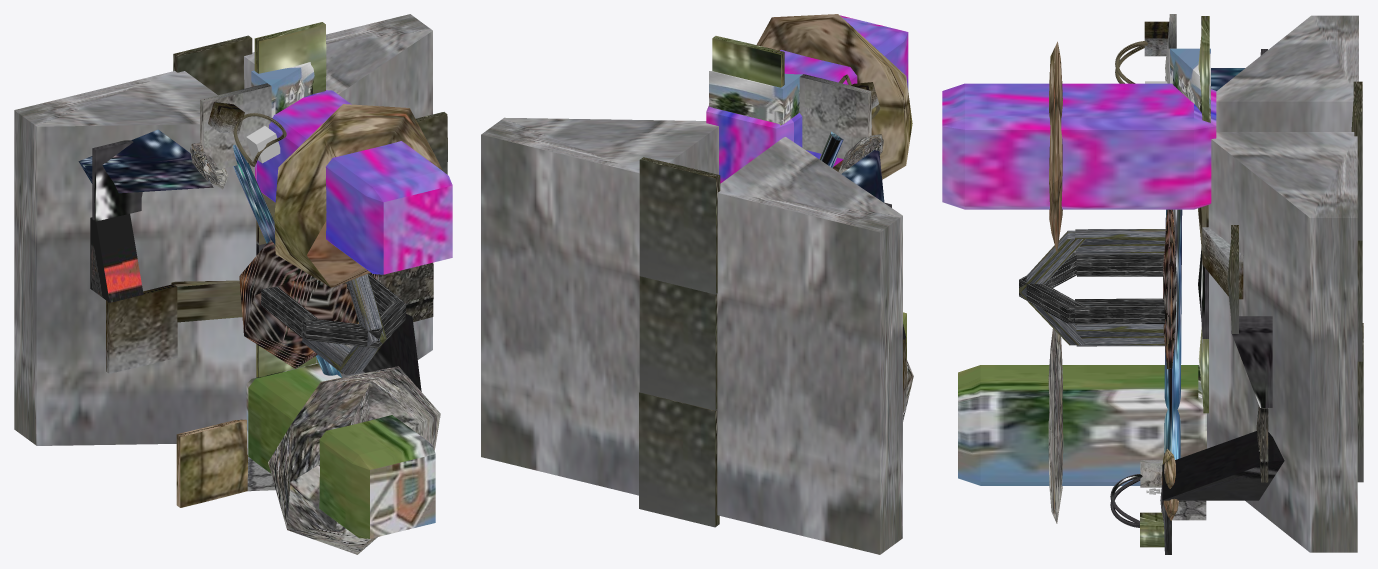
The model's file is asizing6.glb.
3 views of the same model, side by side, from view 1: azimuth 30°, elevation 25°; view 2: azimuth 150°, elevation 25°; view 3: azimuth 270°, elevation 25° (orthographic). The views are drawn at different scales.
Parts seen in each view (by area): view 1: Cube.011, Cube.012, Cube.005, Sphere.001, Sphere.002, Cube.010, Sphere, Cube.004, Cube.026, Cube.008, Cube.022, Cube.028 (+17 smaller); view 2: Cube.011, Cube.010, Cube.031, Cube.029, Cube.030, Sphere.002, Cube.012, Cube.020, Cube.017, Cube.006, Cube.008, Sphere.003; view 3: Cube.010, Cube.012, Cube.005, Cube.011, Cube.021, Cube.022, Cube.009, Cube.007, Cylinder, Sphere.001, Sphere.002, Sphere (+16 smaller).
Boxes of the visible parts, left/top/right/bottom form: Cube.011: left=14, top=71, right=256, bottom=445; Cube.012: left=255, top=90, right=452, bottom=274; Cube.005: left=246, top=363, right=435, bottom=538; Sphere.001: left=268, top=366, right=440, bottom=554; Sphere.002: left=274, top=104, right=442, bottom=287; Cube.010: left=244, top=14, right=432, bottom=377; Sphere: left=239, top=240, right=378, bottom=368; Cube.004: left=176, top=419, right=248, bottom=507; Cube.026: left=106, top=284, right=177, bottom=373; Cube.008: left=78, top=129, right=213, bottom=193; Cube.022: left=261, top=273, right=406, bottom=348; Cube.028: left=90, top=214, right=143, bottom=302; Cube.011: left=717, top=137, right=902, bottom=554; Cube.010: left=481, top=117, right=718, bottom=495; Cube.031: left=639, top=157, right=720, bottom=294; Cube.029: left=639, top=392, right=719, bottom=527; Cube.030: left=639, top=276, right=717, bottom=410; Sphere.002: left=756, top=14, right=912, bottom=179; Cube.012: left=706, top=15, right=908, bottom=183; Cube.020: left=799, top=74, right=871, bottom=158; Cube.017: left=709, top=71, right=802, bottom=124; Cube.006: left=712, top=36, right=784, bottom=125; Cube.008: left=841, top=150, right=884, bottom=202; Sphere.003: left=838, top=134, right=883, bottom=173; Cube.010: left=1202, top=132, right=1357, bottom=552; Cube.012: left=942, top=83, right=1216, bottom=209; Cube.005: left=958, top=365, right=1206, bottom=485; Cube.011: left=1216, top=15, right=1358, bottom=131; Cube.021: left=1019, top=229, right=1165, bottom=346; Cube.022: left=1019, top=252, right=1165, bottom=324; Cube.009: left=1162, top=431, right=1284, bottom=500; Cube.007: left=1231, top=316, right=1272, bottom=407; Cylinder: left=1164, top=209, right=1182, bottom=459; Sphere.001: left=1048, top=328, right=1063, bottom=523; Sphere.002: left=1049, top=41, right=1062, bottom=252; Sphere: left=1163, top=209, right=1176, bottom=368.
Bounding box in the file's own units: 175 × 199 × 154.
Materials: 21 (21 with a texture image).
